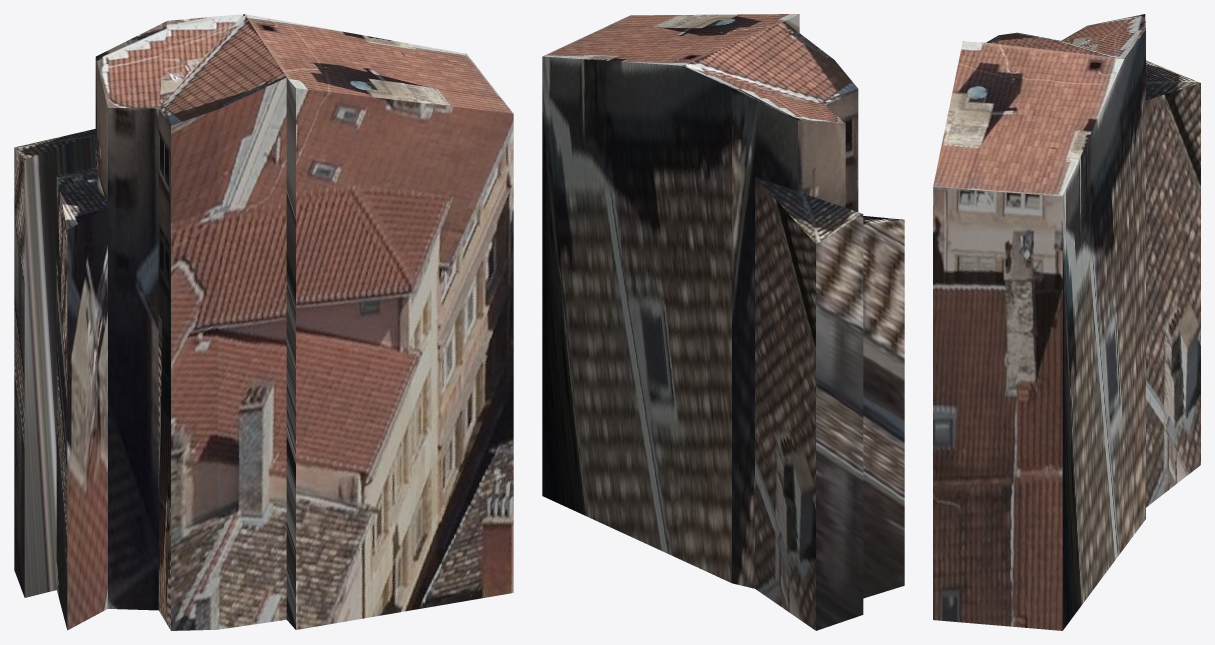
3 renders of one model, left to right at view 1: azimuth 30°, elevation 25°; view 2: azimuth 150°, elevation 25°; view 3: azimuth 270°, elevation 25°, orthographic. The views are drawn at different scales.
Parts seen in each view (by area): view 1: Z_UP; view 2: Z_UP; view 3: Z_UP.
Part boxes in pixels (box(x1,y1,x2,y2)): Z_UP: box(14, 14, 513, 630); Z_UP: box(542, 14, 904, 630); Z_UP: box(933, 14, 1200, 630).
Size of the model in its own units: 16.82 by 21.91 by 10.84.
Materials: 2 (1 with a texture image).
